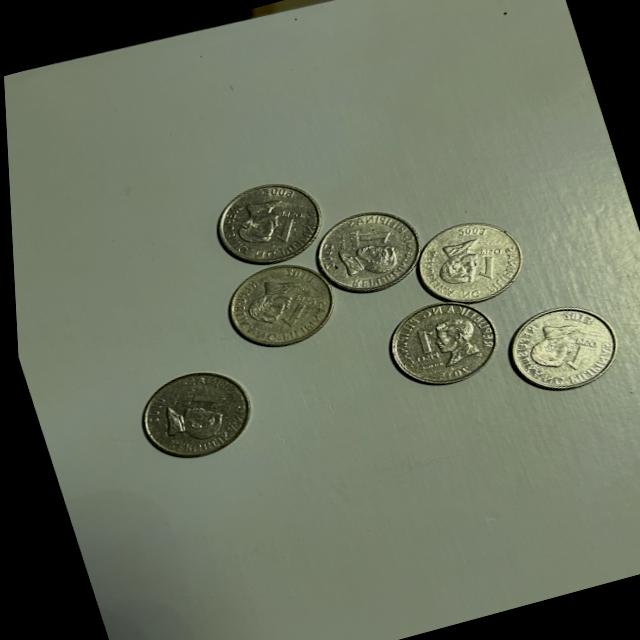1_Old_Front: (268, 288, 325, 334), (397, 316, 446, 368), (548, 332, 604, 376), (167, 378, 226, 419), (263, 204, 313, 249), (339, 220, 398, 256), (461, 244, 507, 288)
